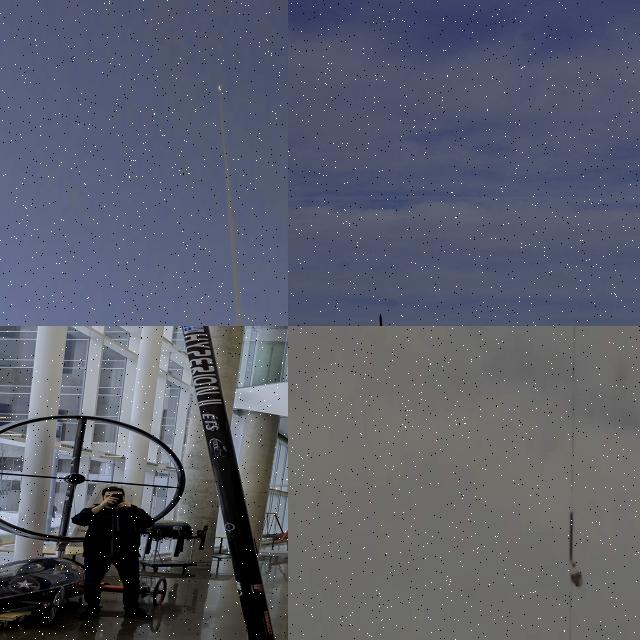Rocket: (182, 326, 275, 640), (569, 511, 577, 566), (376, 313, 388, 326), (219, 85, 219, 88)
